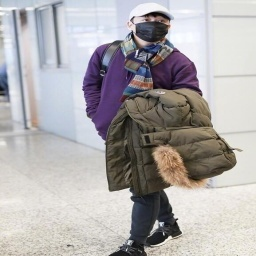correctlyWear: (126, 15, 171, 42)
